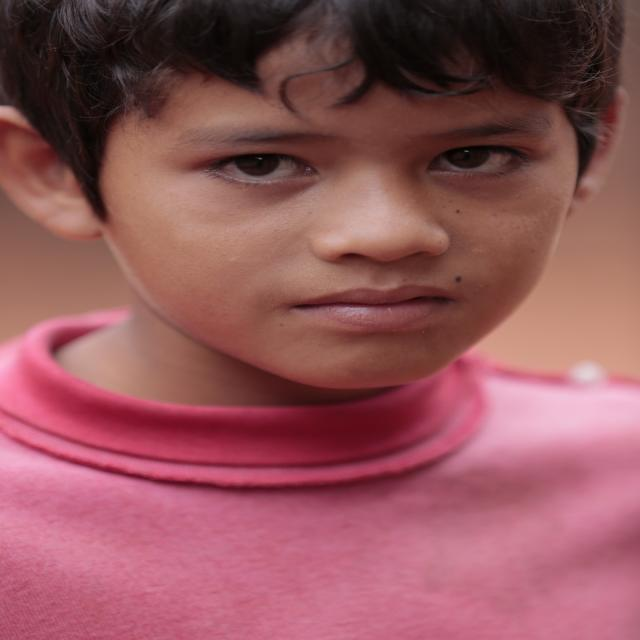earlobe: (0, 105, 102, 242), (571, 84, 629, 204)
